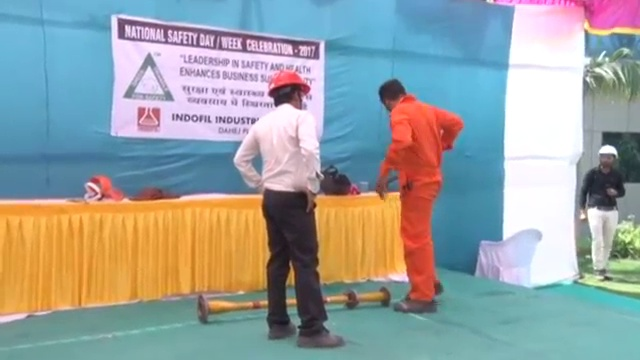helmet: (268, 69, 312, 97), (598, 143, 618, 159)
helmet_off: (379, 78, 410, 113)
helmet_on: (265, 69, 311, 114), (596, 143, 618, 172)
person: (233, 69, 346, 348), (375, 76, 465, 314), (579, 140, 625, 282)
